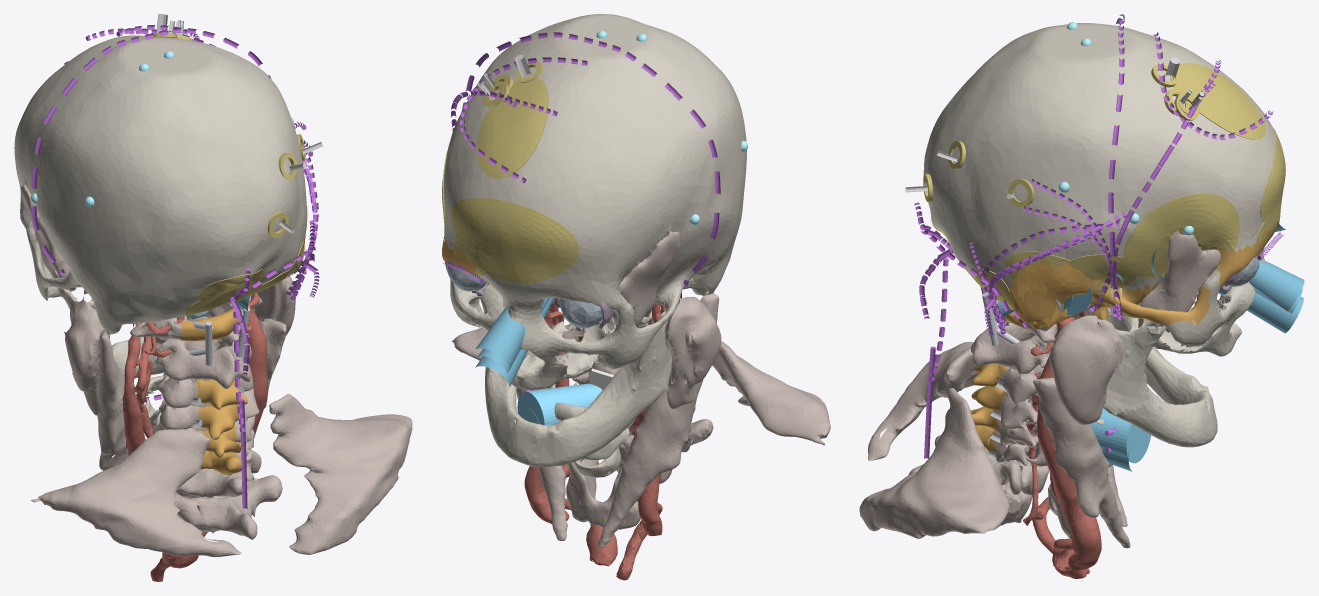
The model's file is approaches_head.glb.
The picture shows the model from 3 angles, left to right: view 1: azimuth 30°, elevation 25°; view 2: azimuth 150°, elevation 25°; view 3: azimuth 270°, elevation 25°; orthographic projection. The views are drawn at different scales.
Parts seen in each view (by area): view 1: skull, right trapezius muscle, left trapezius muscle, thoracic1, axis, left sternocleidomastoideus muscle, left parotid gland, cervical7, left internal jugular vein, right internal jugular vein, Approach: bifrontal subfrontal — bicoronal incision, right parotid gland (+17 smaller); view 2: skull, mandible, Approach: bifrontal subfrontal — bone flap, left sternocleidomastoideus muscle, left trapezius muscle, Approach: interhemispheric transcallosal — bone flap, left parotid gland, left temporalis muscle, thyroid gland, Approach: anterior cervical corpectomy C5 — anterior corrido, Approach: bifrontal subfrontal — bicoronal incision, Approach: extended endonasal transplanum — endonasal corrido (+14 smaller); view 3: skull, right trapezius muscle, mandible, right parotid gland, Approach: pterional — bone flap, right sternocleidomastoideus muscle, left trapezius muscle, right internal jugular vein, right temporalis muscle, Approach: interhemispheric transcallosal — bone flap, Approach: orbitozygomatic — orbitozygomatic bar, axis (+29 smaller).
Part boxes in pixels (bbox=[...]): skull: bbox=[14, 36, 306, 334]; right trapezius muscle: bbox=[269, 394, 412, 554]; left trapezius muscle: bbox=[31, 429, 241, 557]; thoracic1: bbox=[175, 475, 282, 539]; axis: bbox=[151, 315, 251, 388]; left sternocleidomastoideus muscle: bbox=[97, 330, 128, 470]; left parotid gland: bbox=[64, 297, 109, 415]; cervical7: bbox=[176, 450, 261, 498]; left internal jugular vein: bbox=[122, 322, 145, 455]; right internal jugular vein: bbox=[247, 308, 267, 437]; Approach: bifrontal subfrontal — bicoronal incision: bbox=[31, 27, 271, 276]; right parotid gland: bbox=[254, 276, 295, 335]; skull: bbox=[443, 14, 746, 389]; mandible: bbox=[480, 284, 672, 467]; Approach: bifrontal subfrontal — bone flap: bbox=[451, 197, 578, 283]; left sternocleidomastoideus muscle: bbox=[598, 293, 719, 547]; left trapezius muscle: bbox=[712, 341, 830, 445]; Approach: interhemispheric transcallosal — bone flap: bbox=[476, 77, 548, 178]; left parotid gland: bbox=[665, 297, 721, 408]; left temporalis muscle: bbox=[619, 231, 680, 327]; thyroid gland: bbox=[566, 459, 640, 529]; Approach: anterior cervical corpectomy C5 — anterior corrido: bbox=[517, 383, 602, 425]; Approach: bifrontal subfrontal — bicoronal incision: bbox=[462, 32, 720, 286]; Approach: extended endonasal transplanum — endonasal corrido: bbox=[475, 307, 524, 369]; skull: bbox=[923, 23, 1276, 356]; right trapezius muscle: bbox=[859, 388, 1009, 538]; mandible: bbox=[1096, 307, 1217, 447]; right parotid gland: bbox=[1049, 315, 1124, 424]; Approach: pterional — bone flap: bbox=[1123, 193, 1239, 277]; right sternocleidomastoideus muscle: bbox=[1033, 377, 1130, 548]; left trapezius muscle: bbox=[868, 341, 997, 460]; right internal jugular vein: bbox=[1037, 318, 1101, 570]; right temporalis muscle: bbox=[1140, 229, 1220, 332]; Approach: interhemispheric transcallosal — bone flap: bbox=[1170, 63, 1265, 139]; Approach: orbitozygomatic — orbitozygomatic bar: bbox=[1091, 224, 1275, 325]; axis: bbox=[970, 323, 1053, 374].
Bounding box in the file's own units: 221 × 304 × 221.
